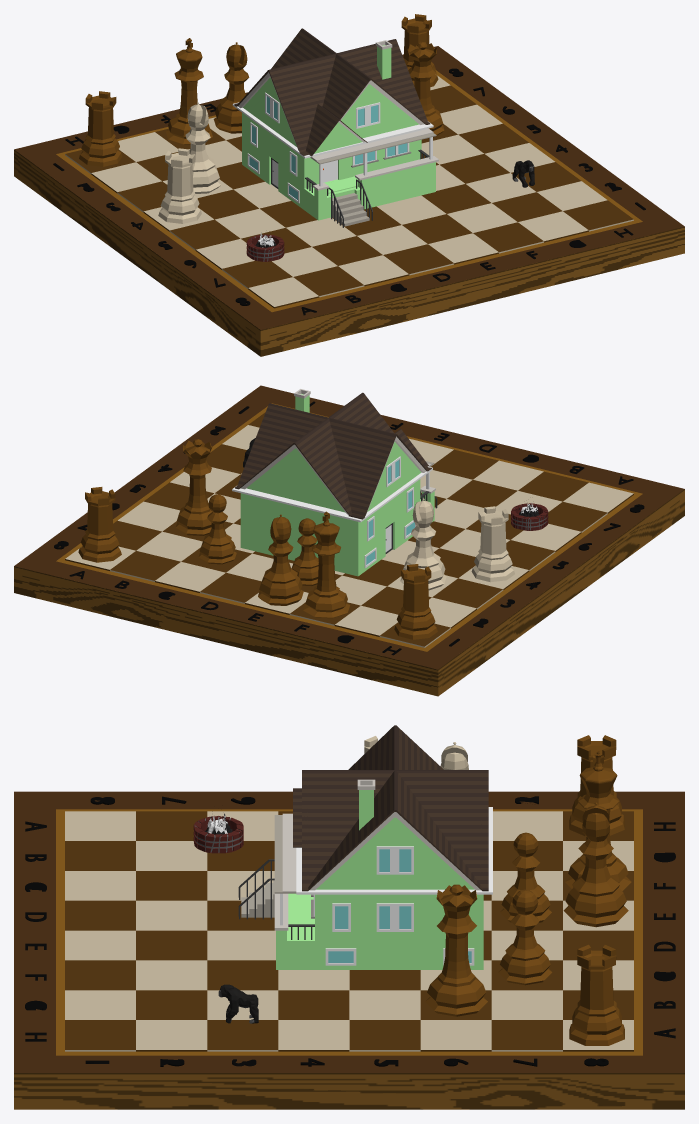
The picture shows the model from 3 angles, top to bottom: view 1: azimuth 30°, elevation 25°; view 2: azimuth 150°, elevation 25°; view 3: azimuth 270°, elevation 25°; orthographic projection. The views are drawn at different scales.
Visible parts, largest first — view 1: Cube.002, Cube.274, OBJRANDOM_CAMPFIRE; view 2: Cube.002, Cube.274, OBJRANDOM_CAMPFIRE; view 3: Cube.002, Cube.274, OBJRANDOM_CAMPFIRE, ANIMAL_GORILA.
Part boxes in pixels (x1=…): Cube.002: x1=14, y1=14, x2=684, y2=356; Cube.274: x1=232, y1=28, x2=438, y2=227; OBJRANDOM_CAMPFIRE: x1=246, y1=232, x2=284, y2=261; Cube.002: x1=14, y1=385, x2=684, y2=696; Cube.274: x1=232, y1=389, x2=437, y2=576; OBJRANDOM_CAMPFIRE: x1=511, y1=502, x2=548, y2=530; Cube.002: x1=14, y1=735, x2=684, y2=1109; Cube.274: x1=238, y1=725, x2=492, y2=969; OBJRANDOM_CAMPFIRE: x1=193, y1=811, x2=243, y2=853; ANIMAL_GORILA: x1=218, y1=984, x2=258, y2=1023.
Size of the model in its own units: 3981 by 1500 by 4012.
27 materials, 2 textured.
